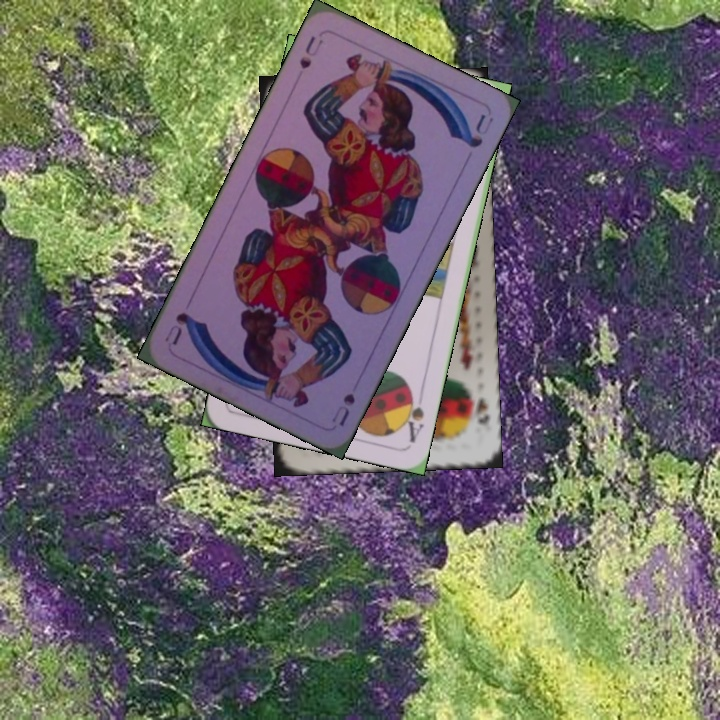SA: (398, 385, 427, 446)
SK: (464, 384, 492, 427)
SU: (327, 389, 358, 429), (295, 32, 326, 72)
